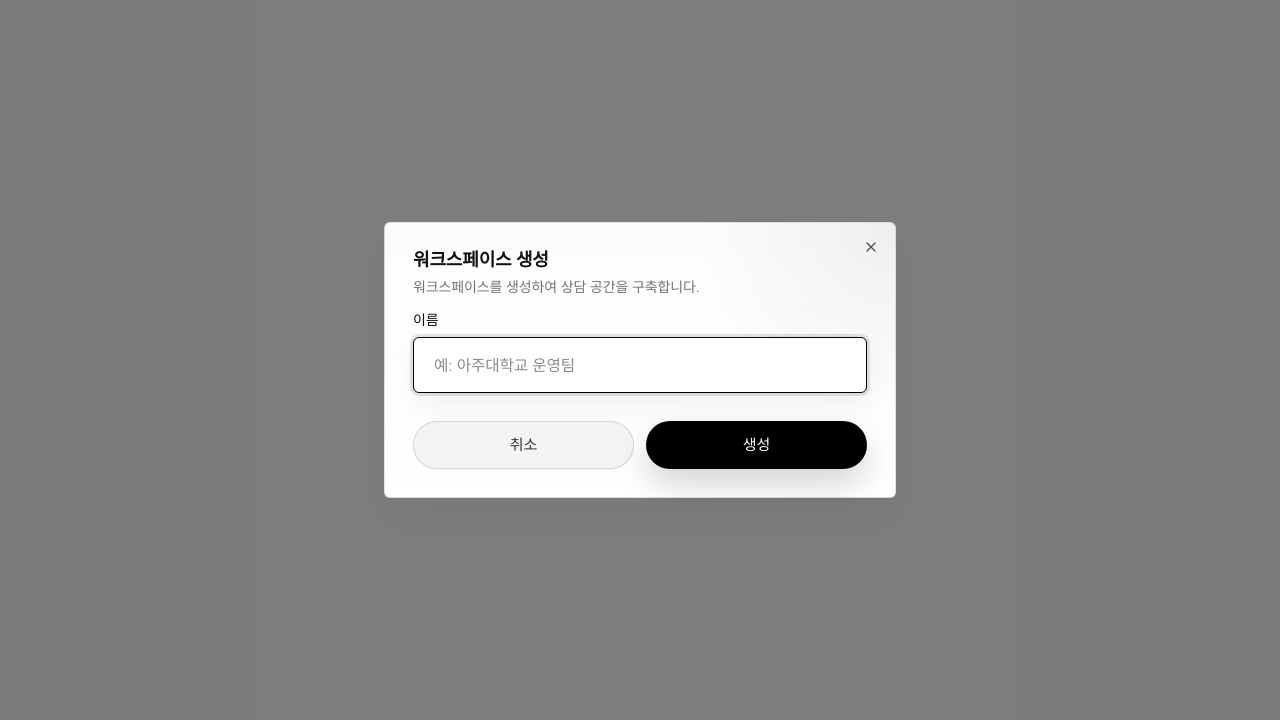
it: CreateWorkspaceDialog › workspace key 충돌은 이름 재시도 안내로 표시한다
In the field labelled "이름": {"x": 640, "y": 365} [413,337,867,393], type "Support Team"
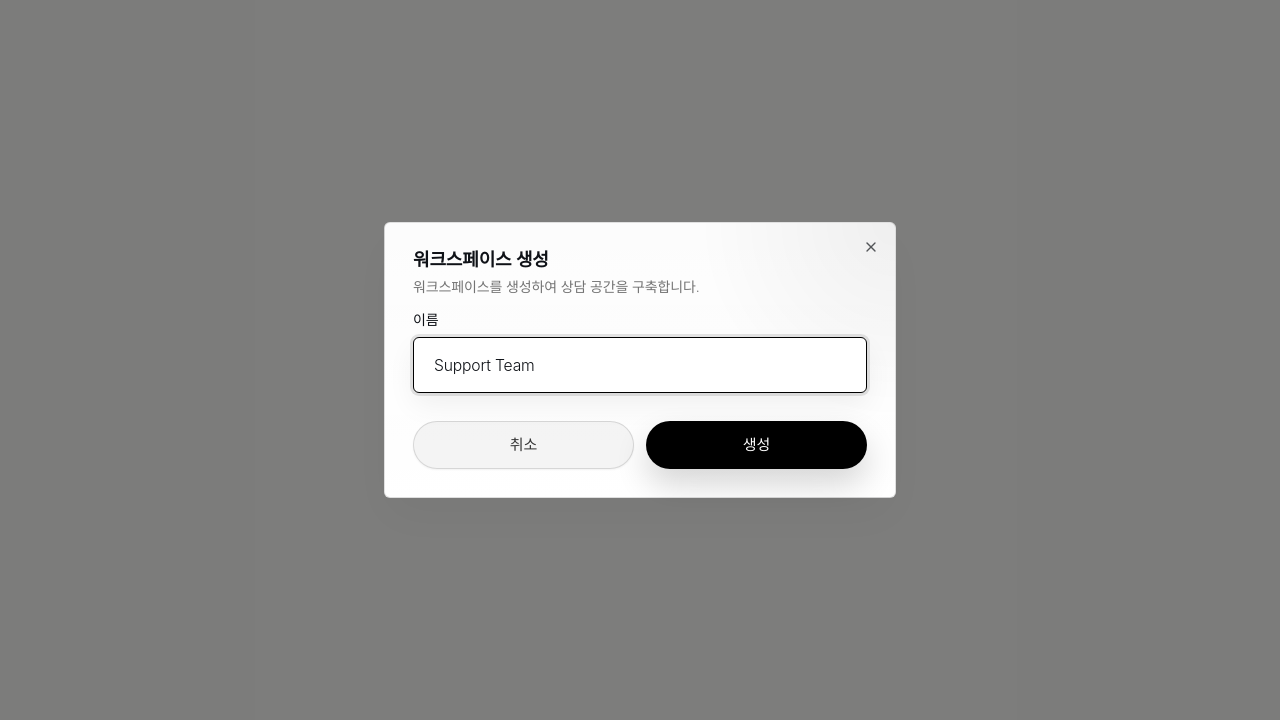
Click the button "생성": {"x": 756, "y": 445} [646,421,867,469]
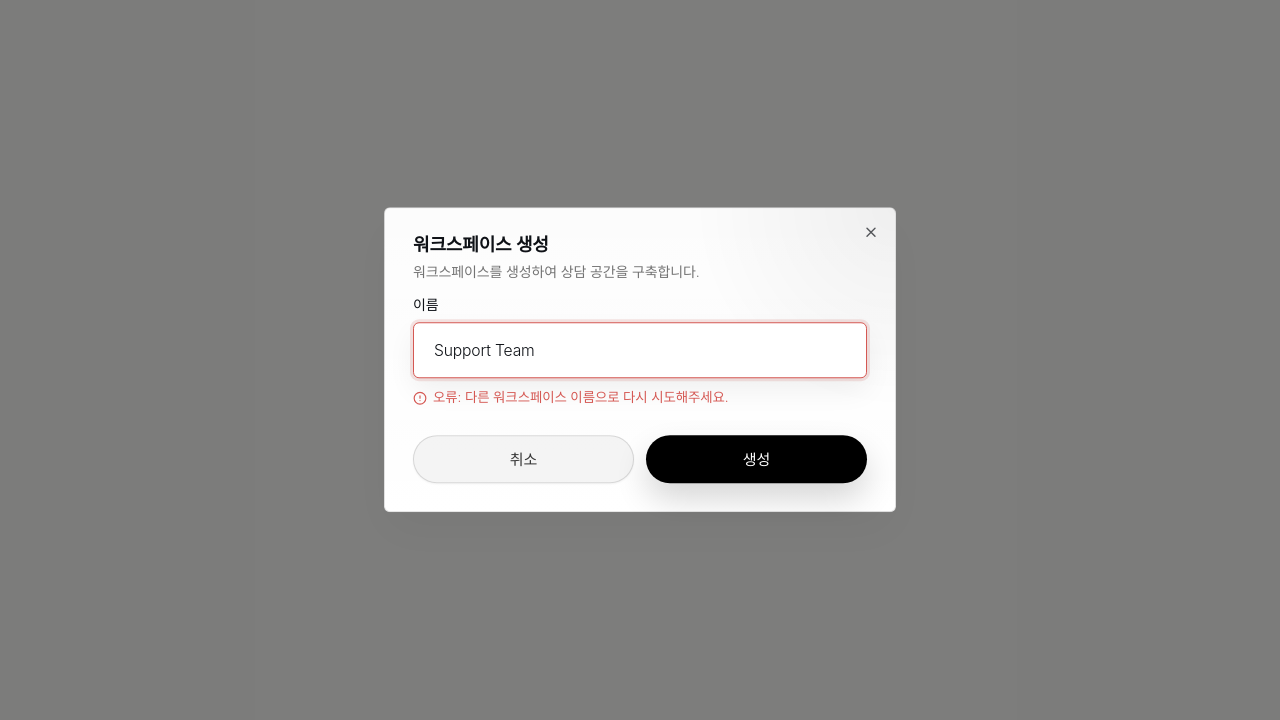
Expected: the message shows "다른 워크스페이스 이름으로 다시 시도해주세요.", [465,389,729,405]
